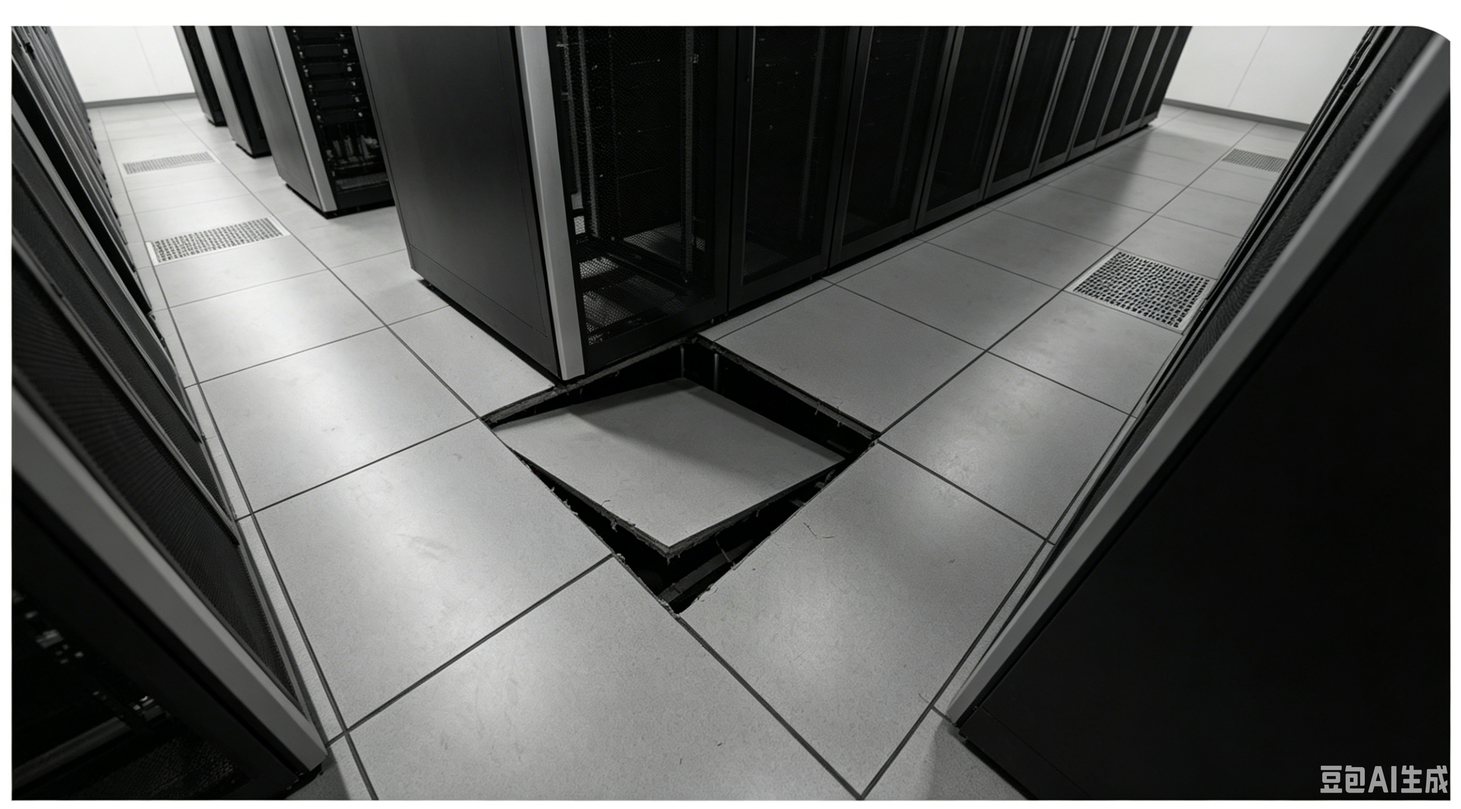floor_defect: (450, 324, 887, 608)
